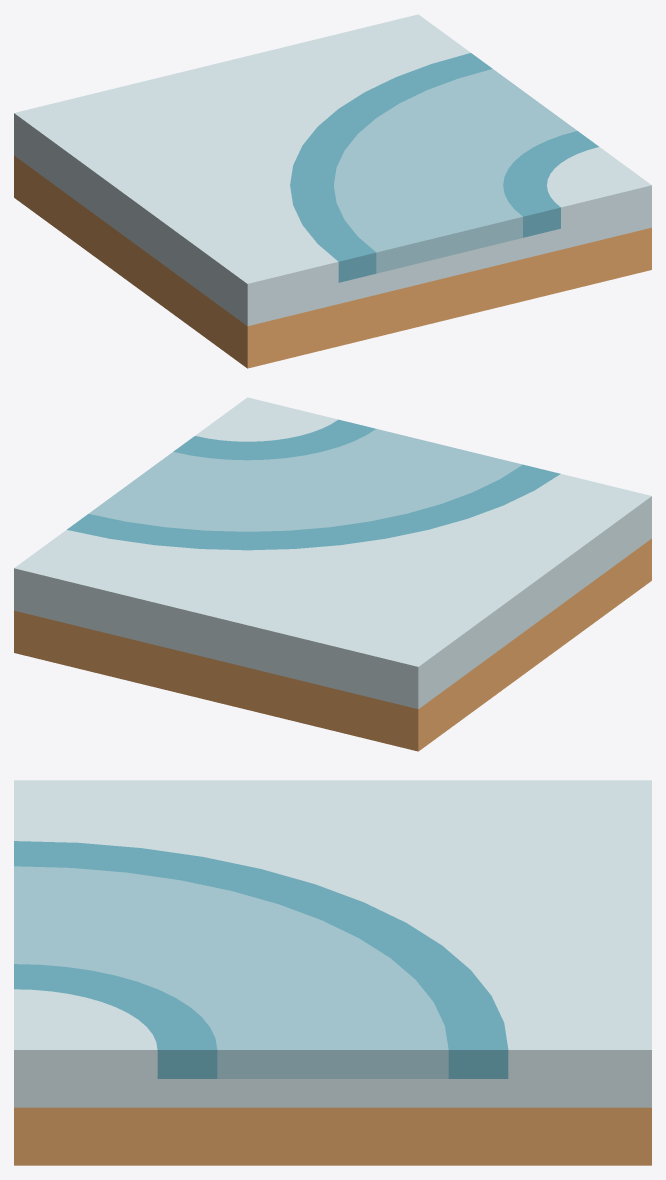
Rendered from snow_tile_cornerRound(+).fbx.
3 views of the same model, one above another, from view 1: azimuth 30°, elevation 25°; view 2: azimuth 150°, elevation 25°; view 3: azimuth 270°, elevation 25° (orthographic). The views are drawn at different scales.
Parts seen in each view (by area): view 1: Mesh_2; view 2: Mesh_2; view 3: Mesh_2.
Boxes of the visible parts, bbox=[...] form: Mesh_2: bbox=[14, 14, 651, 368]; Mesh_2: bbox=[14, 397, 651, 751]; Mesh_2: bbox=[14, 780, 651, 1165].
Bounding box in the file's own units: 100 × 20 × 100.
